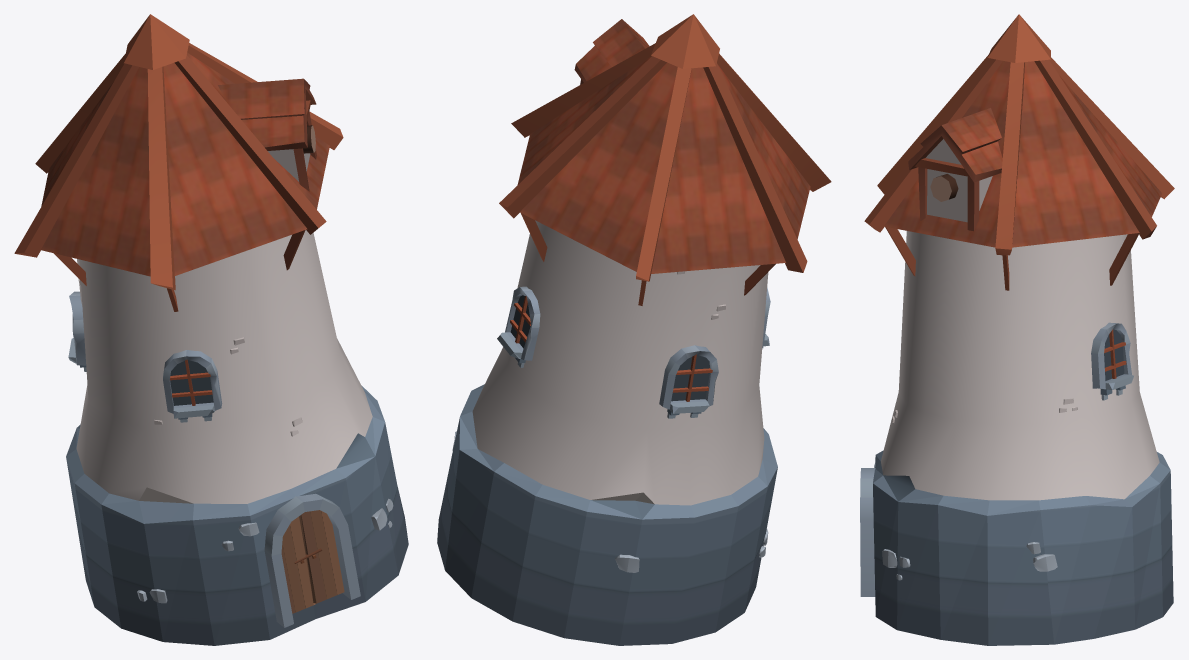
File: WindMill 1.fbx
3 renders of one model, left to right at view 1: azimuth 30°, elevation 25°; view 2: azimuth 150°, elevation 25°; view 3: azimuth 270°, elevation 25°, orthographic. The views are drawn at different scales.
Parts seen in each view (by area): view 1: Scene.001; view 2: Scene.001; view 3: Scene.001.
Boxes of the visible parts, x1,y1,x2,y2 form: Scene.001: (14, 14, 408, 645); Scene.001: (437, 14, 831, 645); Scene.001: (860, 14, 1174, 645).
Bounding box in the file's own units: 771 × 1217 × 613.
